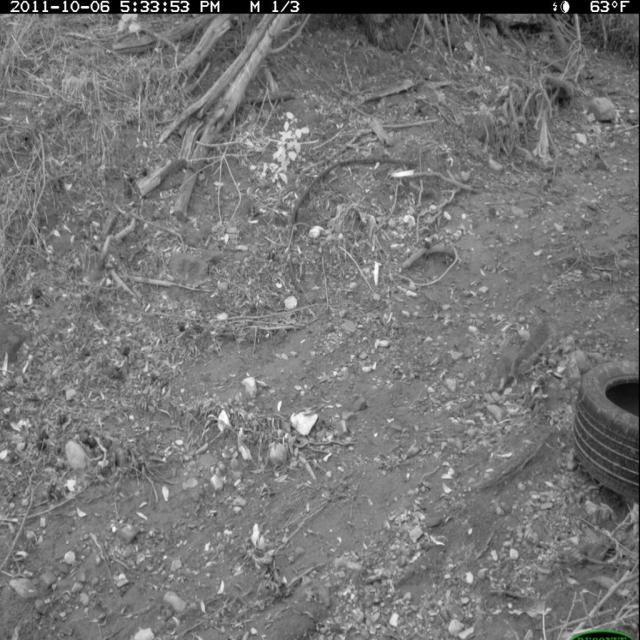squirrel: (489, 317, 555, 400)
